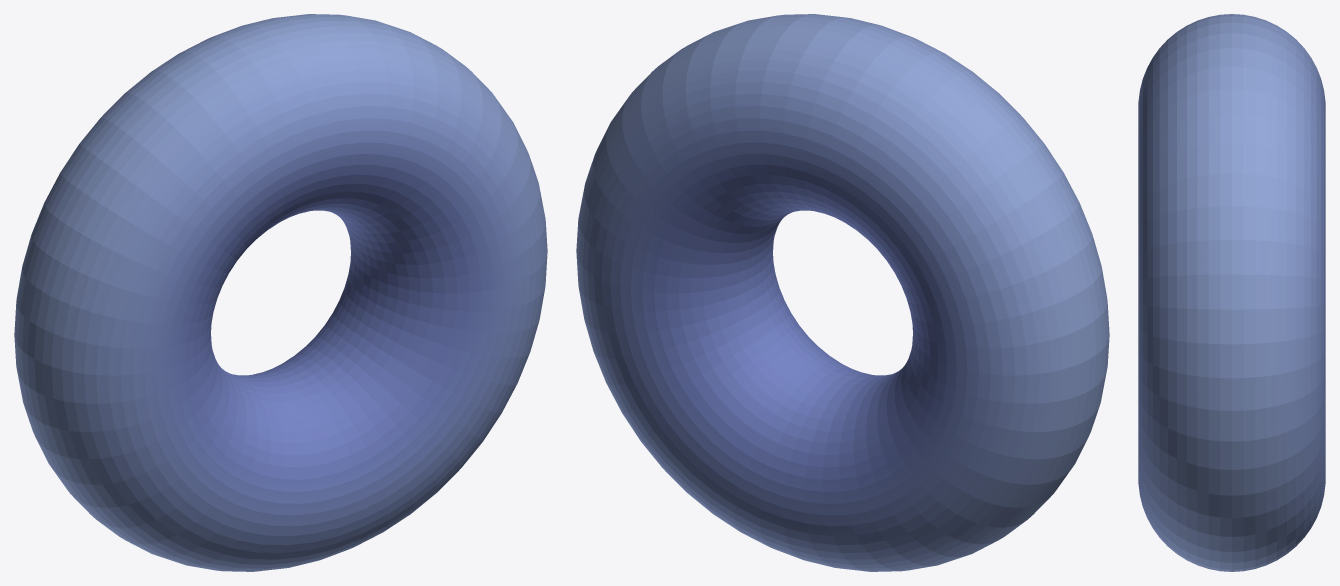
The picture shows the model from 3 angles, left to right: view 1: azimuth 30°, elevation 25°; view 2: azimuth 150°, elevation 25°; view 3: azimuth 270°, elevation 25°; orthographic projection. The views are drawn at different scales.
Parts seen in each view (by area): view 1: world; view 2: world; view 3: world.
Part boxes in pixels (x1=…): world: x1=14, y1=14, x2=547, y2=571; world: x1=576, y1=14, x2=1109, y2=571; world: x1=1138, y1=14, x2=1325, y2=571.
Bounding box in the file's own units: 17.07 × 17.03 × 5.72.
